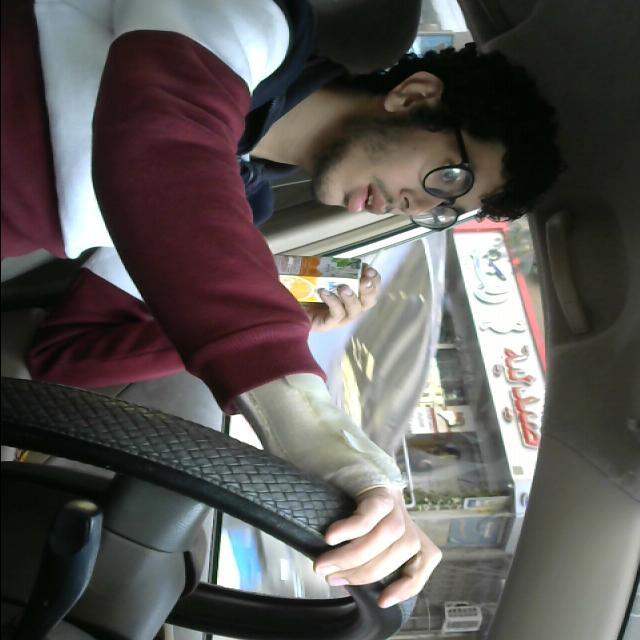drinking: (224, 242, 395, 308)
